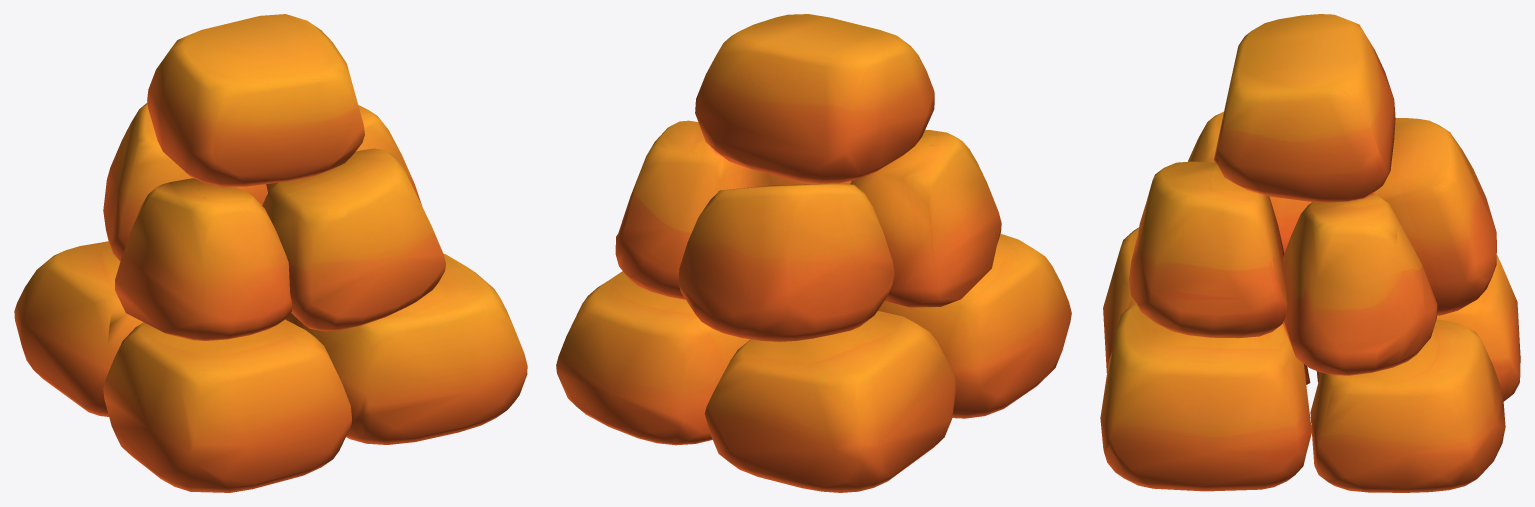
Rendered from rock_pile.glb.
3 views of the same model, side by side, from view 1: azimuth 30°, elevation 25°; view 2: azimuth 150°, elevation 25°; view 3: azimuth 270°, elevation 25° (orthographic). The views are drawn at different scales.
Visible parts, largest first — view 1: tripo_node_11cfeeee-acb9-471e-92cd-9c2479d34e6f; view 2: tripo_node_11cfeeee-acb9-471e-92cd-9c2479d34e6f; view 3: tripo_node_11cfeeee-acb9-471e-92cd-9c2479d34e6f.
Part boxes in pixels (<box>): tripo_node_11cfeeee-acb9-471e-92cd-9c2479d34e6f: <box>14,14,527,492</box>; tripo_node_11cfeeee-acb9-471e-92cd-9c2479d34e6f: <box>556,14,1071,492</box>; tripo_node_11cfeeee-acb9-471e-92cd-9c2479d34e6f: <box>1100,14,1520,492</box>.
Bounding box in the file's own units: 3.57 × 3.48 × 3.6.
Materials: 1 (1 with a texture image).
